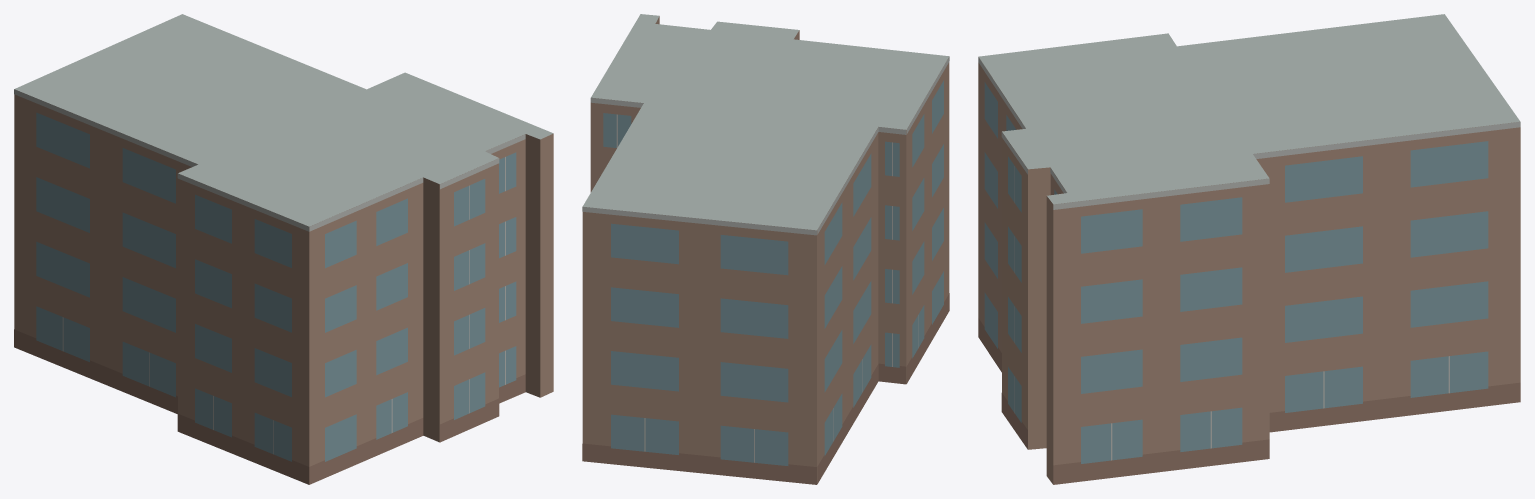
The model's file is survey-upis-32591854.glb.
3 renders of one model, left to right at view 1: azimuth 30°, elevation 25°; view 2: azimuth 150°, elevation 25°; view 3: azimuth 270°, elevation 25°, orthographic. The views are drawn at different scales.
Parts seen in each view (by area): view 1: survey-upis-32591854.tmp; view 2: survey-upis-32591854.tmp; view 3: survey-upis-32591854.tmp.
Part boxes in pixels (bbox=[...]): survey-upis-32591854.tmp: bbox=[14, 14, 553, 484]; survey-upis-32591854.tmp: bbox=[582, 14, 949, 484]; survey-upis-32591854.tmp: bbox=[978, 14, 1520, 484].
Bounding box in the file's own units: 17.77 × 12.2 × 21.38.
